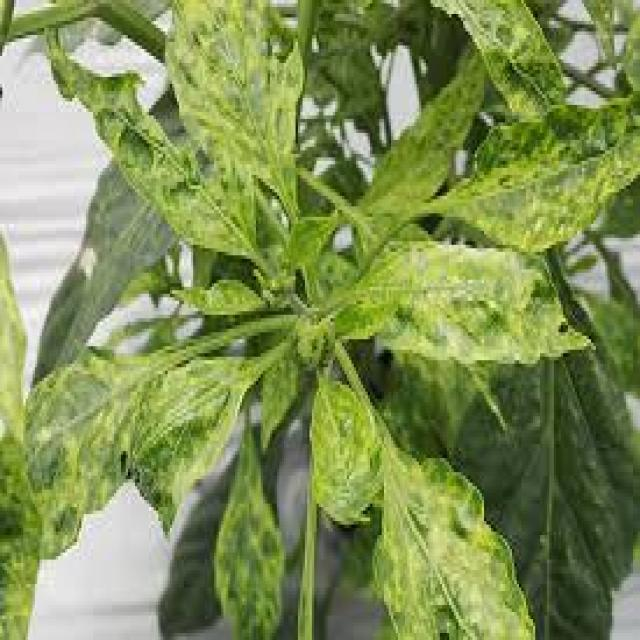Nutirtion_deficie: (20, 20, 245, 296), (286, 362, 477, 640), (330, 222, 565, 430), (0, 345, 277, 503), (426, 70, 640, 252), (415, 0, 574, 129), (207, 449, 290, 640)
